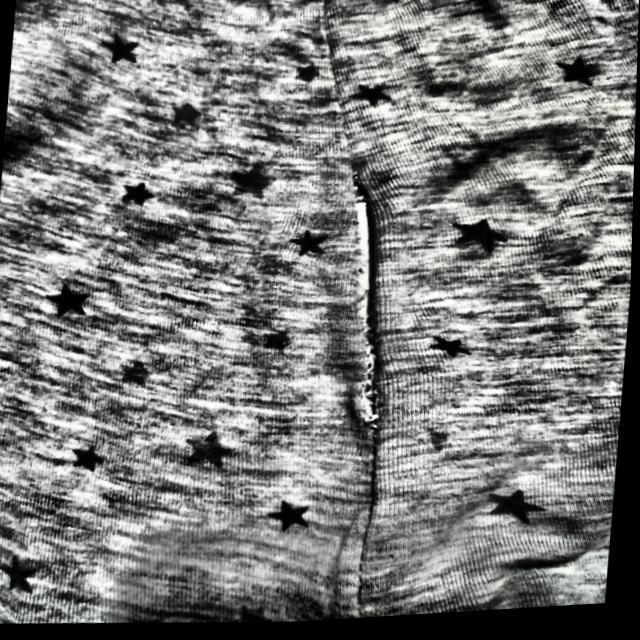Stitch: (333, 181, 402, 432)
